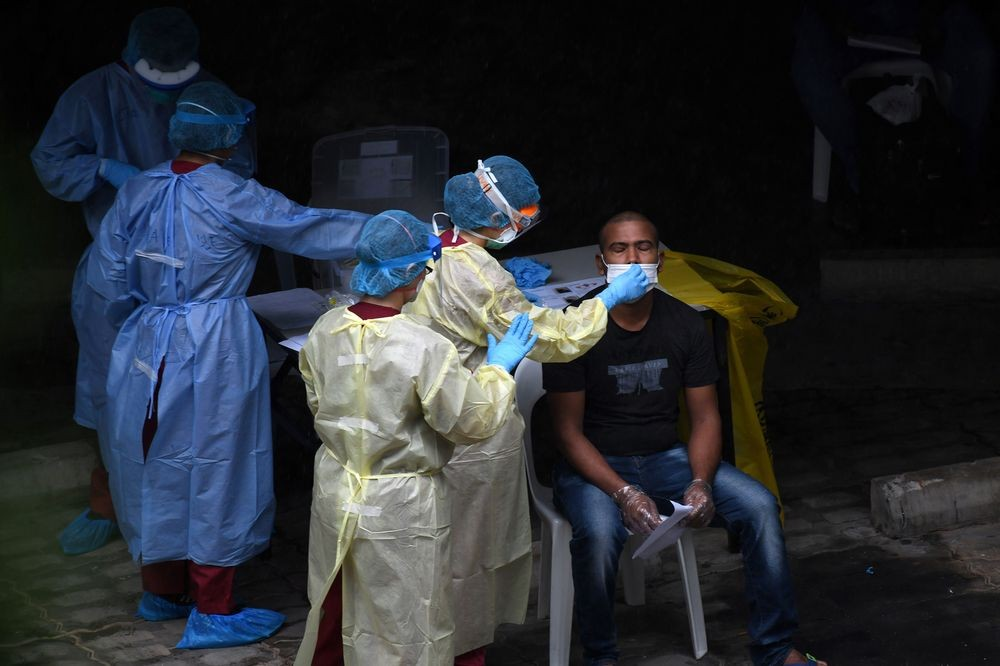Coverall: (98, 162, 277, 565), (298, 305, 455, 657), (410, 235, 533, 627)
Gloves: (481, 310, 543, 379), (600, 265, 656, 320)
mask_weared_incorrect: (606, 228, 665, 304)
